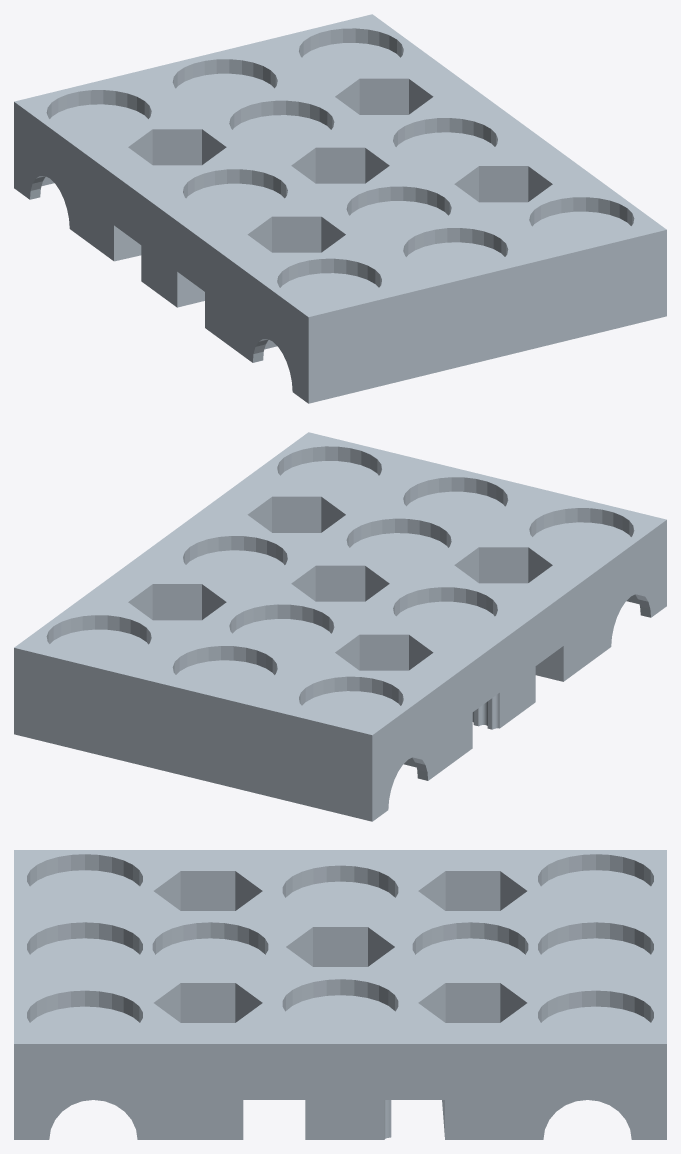
File: Universal_axis_carriage_side.glb
3 renders of one model, top to bottom at view 1: azimuth 30°, elevation 25°; view 2: azimuth 150°, elevation 25°; view 3: azimuth 270°, elevation 25°, orthographic. The views are drawn at different scales.
Visible parts, largest first — view 1: Universal_axis_carriage_side; view 2: Universal_axis_carriage_side; view 3: Universal_axis_carriage_side.
Boxes of the visible parts, bbox=[...] form: Universal_axis_carriage_side: bbox=[14, 14, 666, 403]; Universal_axis_carriage_side: bbox=[14, 432, 666, 821]; Universal_axis_carriage_side: bbox=[14, 850, 666, 1139].
Bounding box in the file's own units: 0.052 × 0.012 × 0.074.
